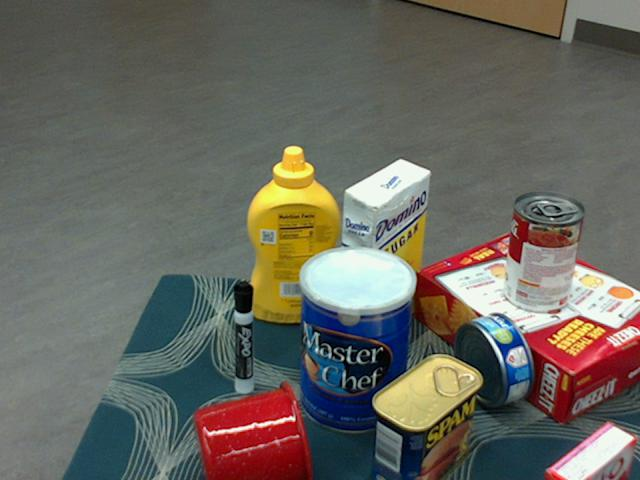cracker_box: (413, 231, 639, 420)
gelatin_box: (541, 421, 632, 479)
large_marker: (232, 280, 252, 394)
master_chef_can: (299, 247, 417, 436)
mug: (192, 380, 312, 479)
mustard_bottle: (246, 146, 339, 323)
potted_meat_can: (370, 354, 482, 479)
sugar_box: (336, 160, 431, 349)
tomato_soup_can: (503, 193, 584, 315)
tuna_fish_can: (455, 312, 535, 407)
